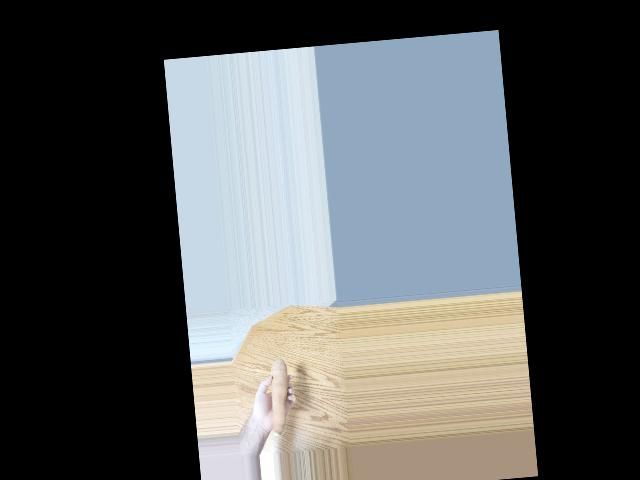sweet_potato: (267, 354, 297, 433)
